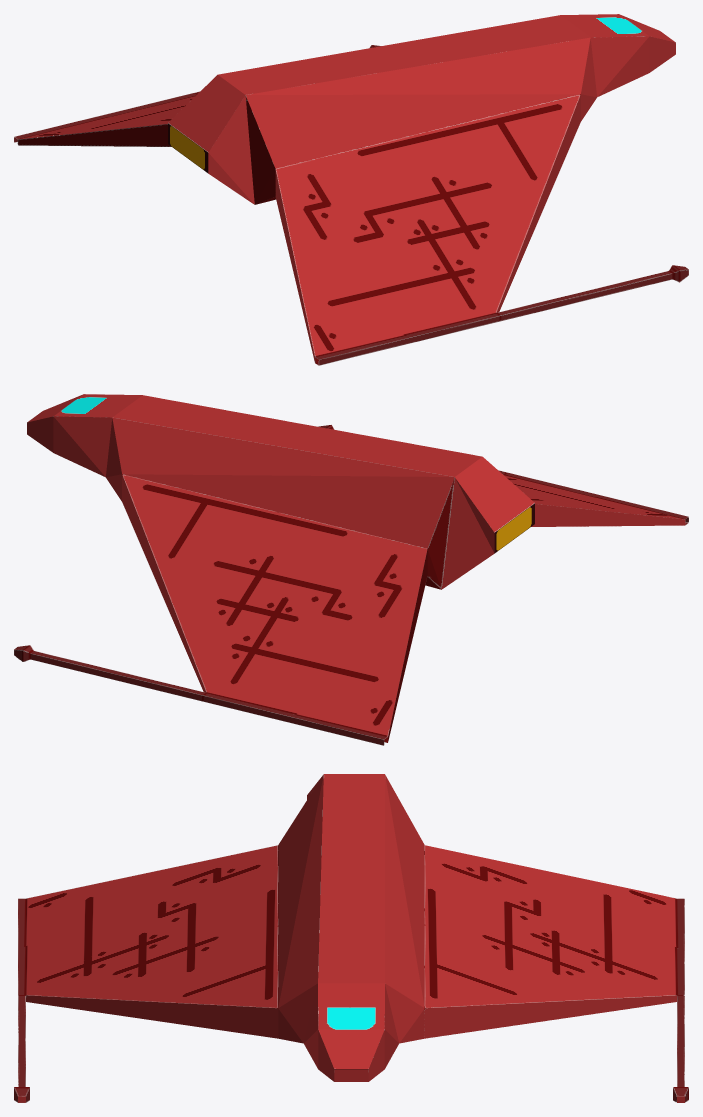
Rendered from spaceship.dae.
3 renders of one model, top to bottom at view 1: azimuth 30°, elevation 25°; view 2: azimuth 150°, elevation 25°; view 3: azimuth 270°, elevation 25°, orthographic. The views are drawn at different scales.
Parts seen in each view (by area): view 1: Cube; view 2: Cube; view 3: Cube.
Part boxes in pixels (x1,y1,x2,y2): Cube: (14, 14, 688, 365); Cube: (14, 394, 688, 745); Cube: (14, 774, 688, 1102).
Bounding box in the file's own units: 4.37 × 4.65 × 1.29.
Materials: 1 (1 with a texture image).
